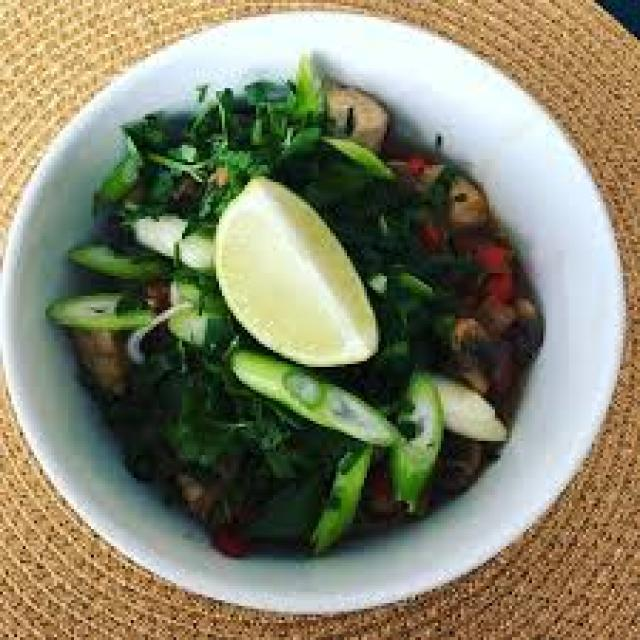organic waste: (40, 51, 540, 558), (211, 171, 381, 361), (122, 330, 279, 458), (230, 347, 401, 441), (344, 191, 432, 273), (233, 449, 316, 535), (125, 205, 219, 279), (307, 441, 373, 546), (392, 367, 443, 498), (162, 452, 239, 529), (432, 364, 507, 438), (102, 393, 168, 475), (318, 74, 387, 148), (441, 228, 509, 302), (128, 128, 210, 185), (248, 91, 322, 154), (438, 304, 492, 390), (416, 156, 486, 219), (301, 156, 370, 219), (239, 421, 307, 484), (68, 242, 165, 284), (185, 89, 264, 140), (68, 324, 122, 398), (42, 293, 156, 327), (321, 122, 387, 180), (202, 145, 264, 196), (501, 290, 543, 359), (450, 316, 490, 387), (86, 156, 142, 196), (282, 54, 318, 114), (208, 512, 256, 555), (128, 450, 162, 490)
